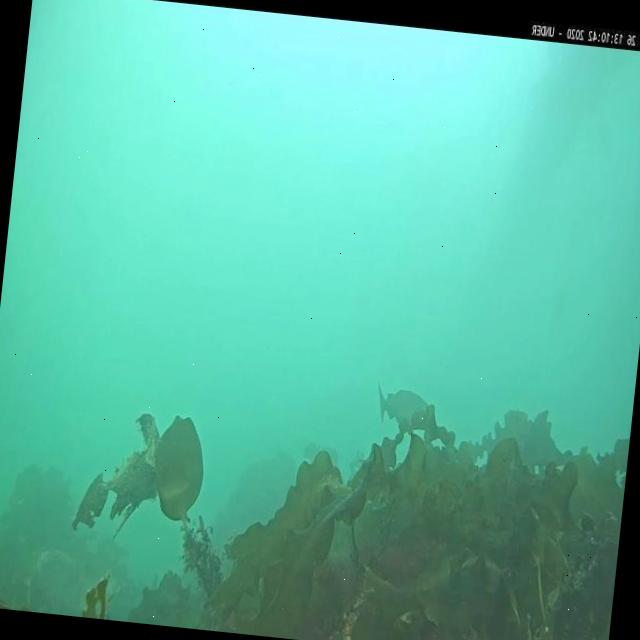fish: (373, 384, 432, 429)
